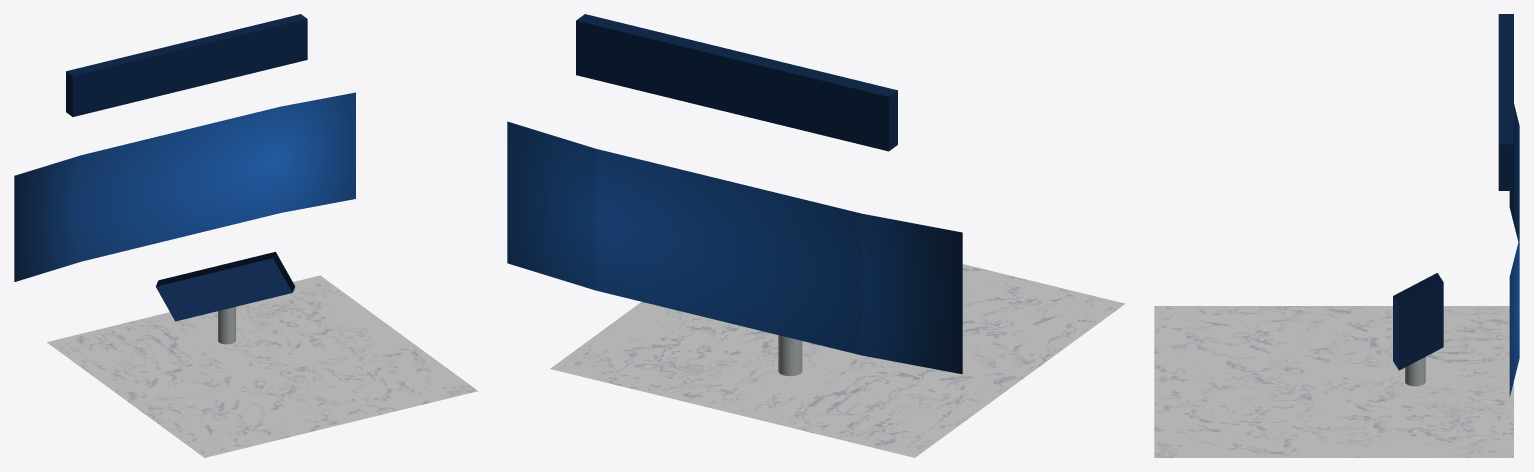
File: model_main.glb
3 views of the same model, side by side, from view 1: azimuth 30°, elevation 25°; view 2: azimuth 150°, elevation 25°; view 3: azimuth 270°, elevation 25° (orthographic). The views are drawn at different scales.
Parts seen in each view (by area): view 1: floor, front_wall, Cube, console, console_pod; view 2: front_wall, floor, Cube, console_pod; view 3: floor, console, Cube, front_wall, console_pod.
Boxes of the visible parts, x1,y1,x2,y2 form: floor: (46,275,478,457); front_wall: (14,92,355,281); Cube: (66,14,307,116); console: (156,252,295,321); console_pod: (218,307,235,344); front_wall: (507,121,962,374); floor: (550,264,1125,457); Cube: (576,14,897,151); console_pod: (778,335,802,376); floor: (1154,306,1513,457); console: (1393,273,1443,370); Cube: (1498,14,1513,190); front_wall: (1509,104,1519,396); console_pod: (1405,357,1425,386).
Bounding box in the file's own units: 17.46 × 13 × 14.22.
4 materials, 2 textured.
